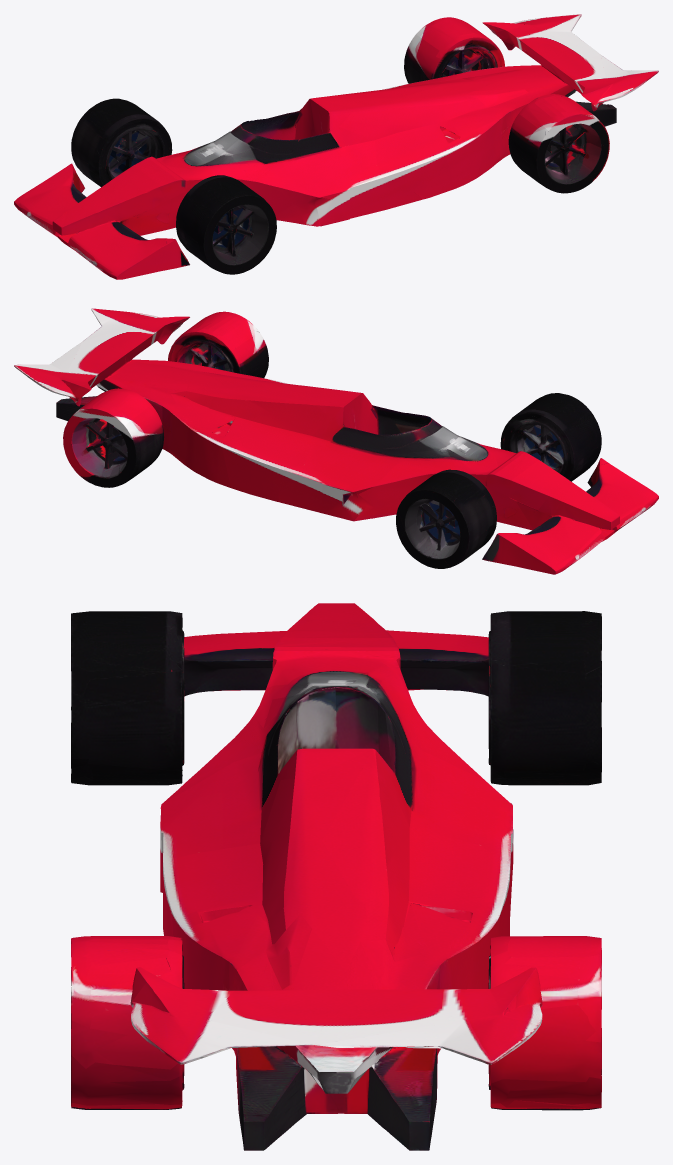
Rendered from car_sliver.glb.
The picture shows the model from 3 angles, top to bottom: view 1: azimuth 30°, elevation 25°; view 2: azimuth 150°, elevation 25°; view 3: azimuth 270°, elevation 25°; orthographic projection. The views are drawn at different scales.
Size of the model in its own units: 1.9 by 0.275 by 0.7757.
1 material, 1 textured.
